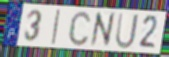2: (136, 14, 160, 52)
3: (23, 9, 43, 43)
C: (67, 10, 92, 48)
I: (50, 8, 62, 46)
N: (89, 11, 116, 49)
U: (114, 12, 140, 50)
